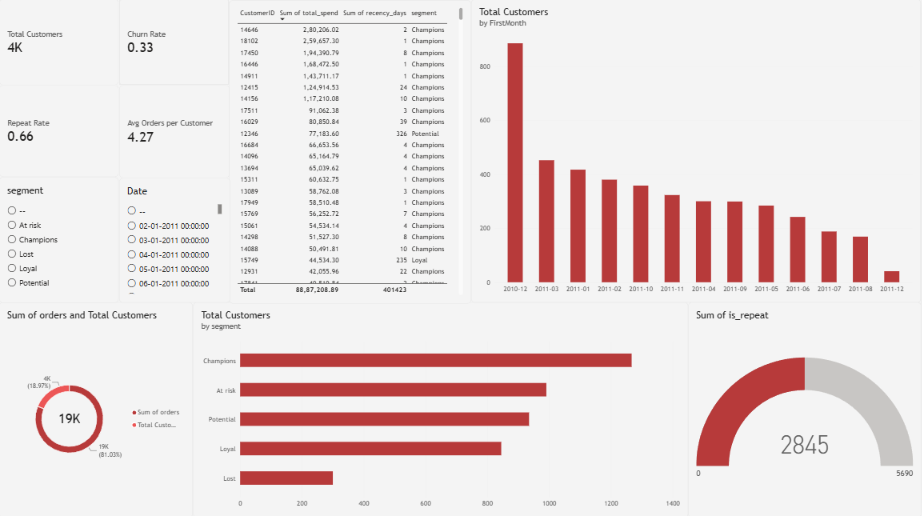

The dashboard page shown, as its layout file describes it:
{"tool":"powerbi","page":{"name":"Page 1","canvas":[1920,1080],"ordinal":0},"visuals":[{"type":"cardVisual","fields":{"Data":["Customers.Total Customers"]},"box":[0,0,249.1,179.1],"z":0},{"type":"cardVisual","fields":{"Data":["Customers.Repeat Rate"]},"box":[0,179.1,249.1,191.4],"z":1},{"type":"cardVisual","fields":{"Data":["Customers.Churn Rate"]},"box":[249.1,0,230.5,179.1],"z":2},{"type":"cardVisual","fields":{"Data":["Customers.Avg Orders per Customer"]},"box":[249.1,179.1,230.5,193.5],"z":3},{"type":"barChart","fields":{"Category":["Customers.segment"],"Y":["Customers.Total Customers"]},"box":[403.4,631.9,1031.2,448.7],"z":4},{"type":"clusteredColumnChart","fields":{"Category":["Customers.FirstMonth"],"Y":["Customers.Total Customers"]},"box":[983.9,0,936.5,631.9],"z":5},{"type":"donutChart","fields":{"Y":["Sum(Customers.orders)","Customers.Total Customers"]},"box":[0,631.9,403.4,448.7],"z":6},{"type":"gauge","fields":{"Y":["Sum(Customers.is_repeat)"]},"box":[1434.7,631.9,485.8,448.7],"z":7},{"type":"tableEx","fields":{"Values":["Customers.CustomerID","Sum(Customers.total_spend)","Sum(Customers.recency_days)","Customers.segment"]},"box":[479.6,2.1,504.3,631.9],"z":8},{"type":"listSlicer","fields":{"Values":["Customers.segment"]},"box":[0,370.5,249.1,261.4],"z":9},{"type":"listSlicer","fields":{"Values":["DimDate.Date"]},"box":[249,372,231,259],"z":10}]}

Visuals, with their boxes in screenshot pixels (x1, y1, x2, y2), scaled from the page's 1920x1080 canvas onto the 922x516 screenshot:
cardVisual - Customers.Total Customers: (0,0,120,86)
cardVisual - Customers.Repeat Rate: (0,86,120,177)
cardVisual - Customers.Churn Rate: (120,0,230,86)
cardVisual - Customers.Avg Orders per Customer: (120,86,230,178)
barChart - Customers.segment x Customers.Total Customers: (194,302,689,515)
clusteredColumnChart - Customers.FirstMonth x Customers.Total Customers: (472,0,921,302)
donutChart - Sum(Customers.orders) x Customers.Total Customers: (0,302,194,515)
gauge - Sum(Customers.is_repeat): (689,302,921,515)
tableEx - Customers.CustomerID x Sum(Customers.total_spend): (230,1,472,303)
listSlicer - Customers.segment: (0,177,120,302)
listSlicer - DimDate.Date: (120,178,230,301)
